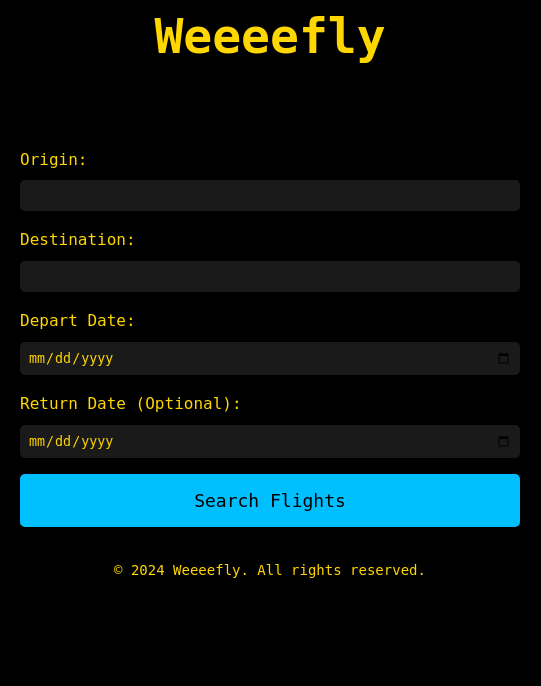
HomePage › clears field error when user types
The image size is (541, 686).
Note: Submit empty form to trigger errors
Click the button "Search Flights": (270, 500) 20,474 -> 520,527
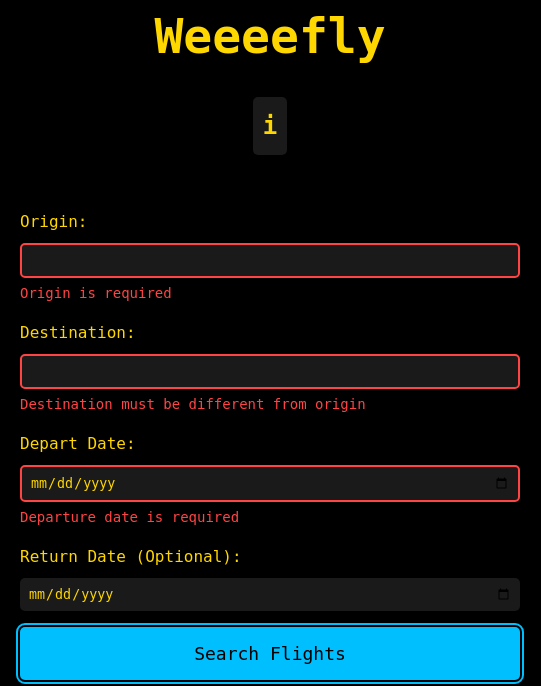
Expected: the text "Origin is required" is shown, 20,285 -> 172,301
Note: Type in the field
In the field labelled "Origin:": (270, 260) 20,243 -> 520,278, type "J"
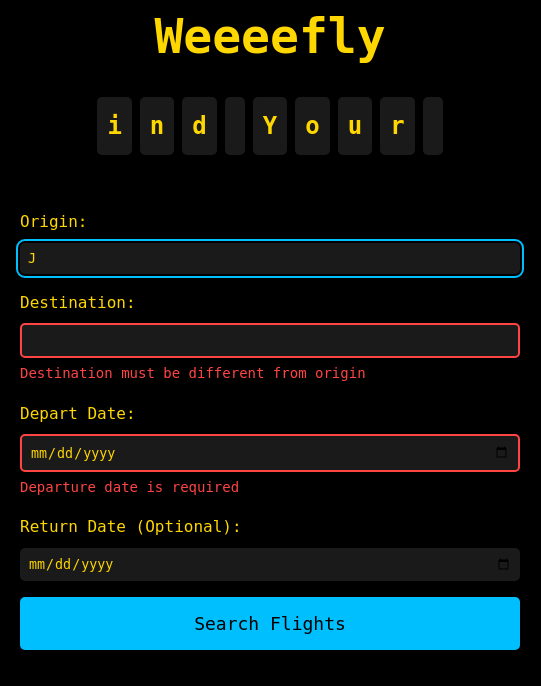
Expected: the text "Origin is required" is gone
